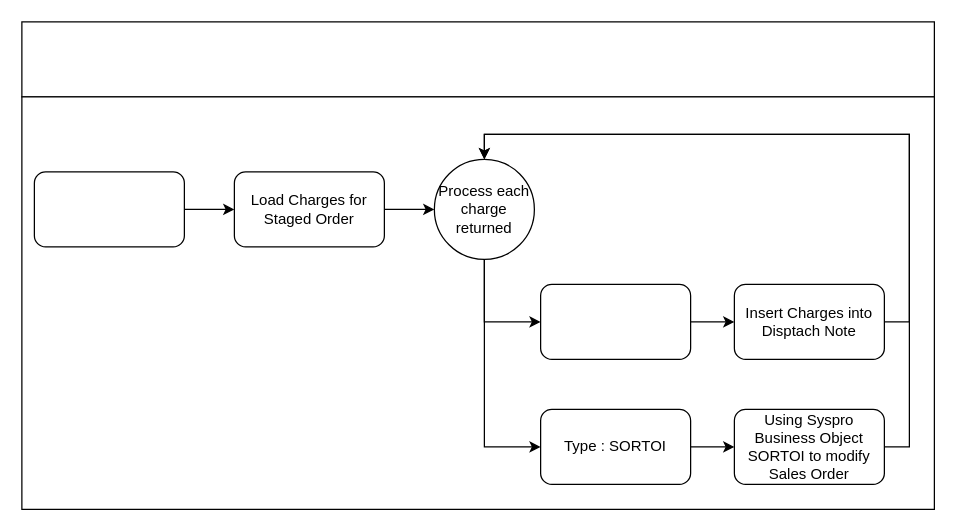
Some shapes in this 956 by 531 pixel diagram are drawn without their labels. The shapes that lost their labels are listed below. From the top down, each one's centre as x and y in pixels, then its label:
(477,59): Process: Dispatch
(108,209): ProcessDisptach : Start
(615,321): Type : Dispatch
